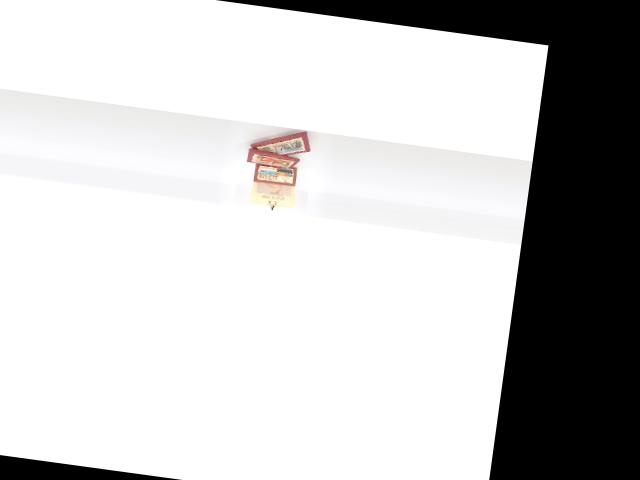chocolate: (246, 119, 325, 164)
